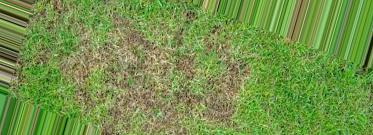patch: (129, 31, 185, 101), (86, 67, 135, 124), (205, 87, 230, 120)
